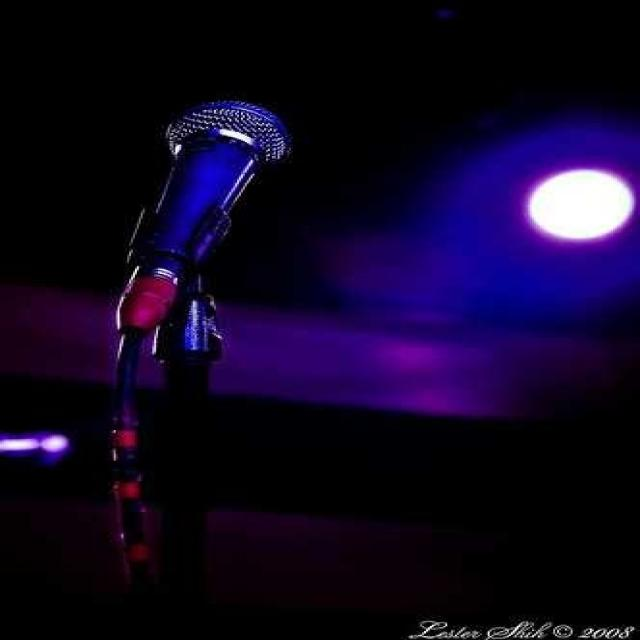microphone: (129, 100, 293, 326)
